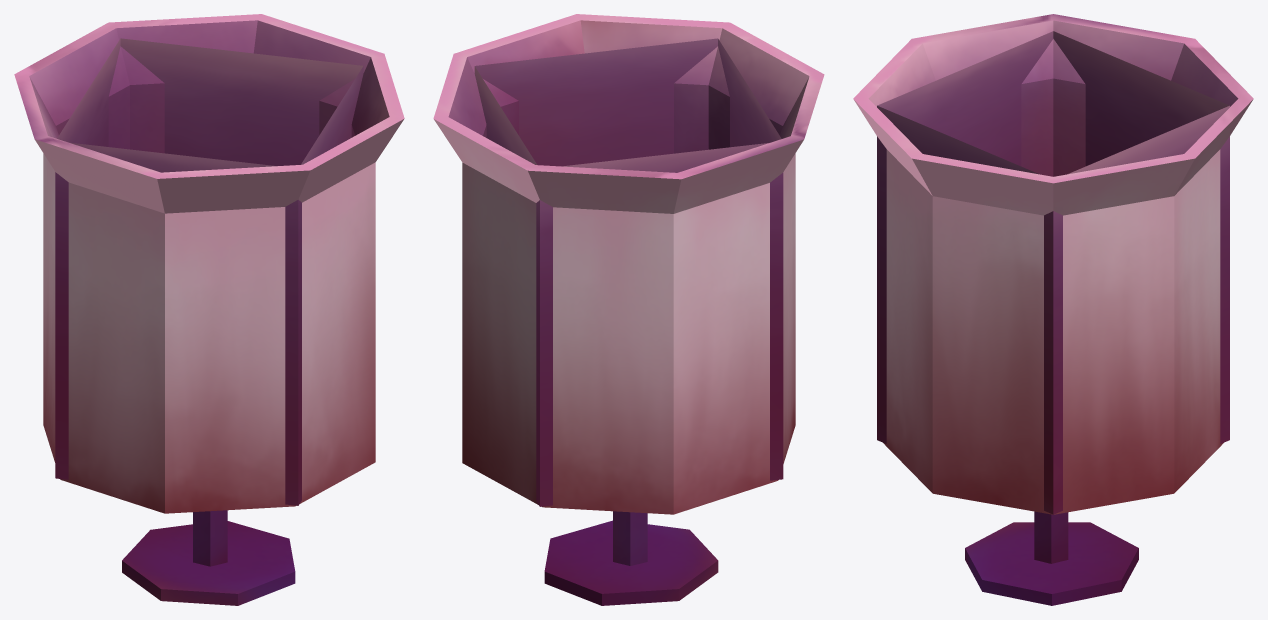
The model's file is E_ParkBin.fbx.
The picture shows the model from 3 angles, left to right: view 1: azimuth 30°, elevation 25°; view 2: azimuth 150°, elevation 25°; view 3: azimuth 270°, elevation 25°; orthographic projection.
Visible parts, largest first — view 1: hp_e_parkbin, lp_e_parkbin; view 2: hp_e_parkbin, lp_e_parkbin, mp_e_parkbin; view 3: hp_e_parkbin, lp_e_parkbin, mp_e_parkbin.
Boxes of the visible parts, bbox=[...] form: hp_e_parkbin: bbox=[14, 14, 404, 605]; lp_e_parkbin: bbox=[55, 38, 363, 505]; hp_e_parkbin: bbox=[433, 14, 824, 605]; lp_e_parkbin: bbox=[474, 38, 783, 506]; mp_e_parkbin: bbox=[552, 521, 717, 593]; hp_e_parkbin: bbox=[853, 14, 1253, 605]; lp_e_parkbin: bbox=[877, 31, 1229, 514]; mp_e_parkbin: bbox=[983, 522, 1137, 592].
Size of the model in its own units: 61.03 by 78.8 by 61.03.
